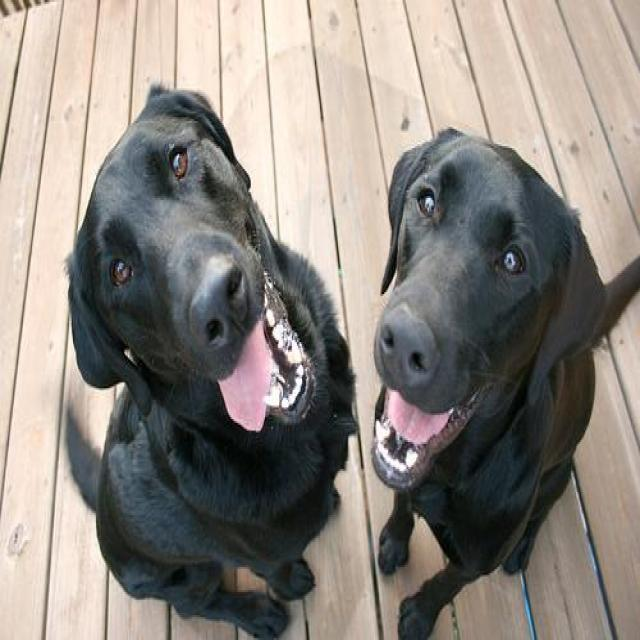sitting: (53, 78, 363, 640), (364, 110, 640, 640)
